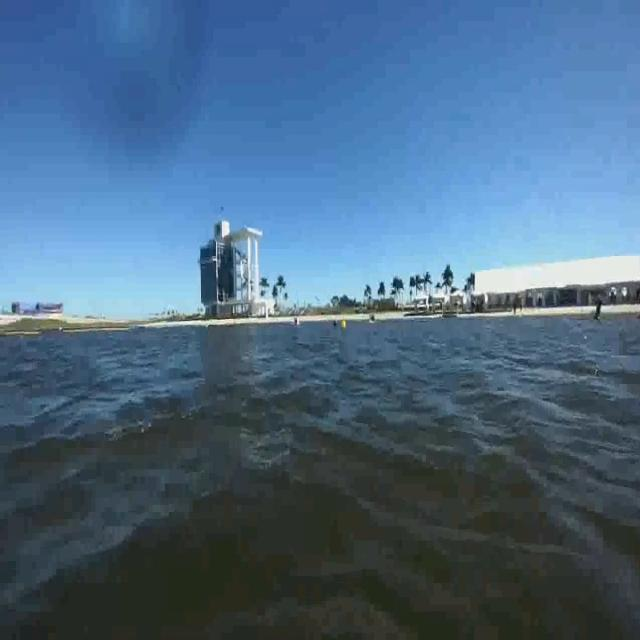green-column-buoy: (593, 298, 603, 327)
yellow-buoy: (342, 321, 349, 333)
